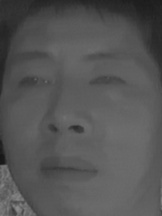eye: (14, 71, 54, 93), (88, 69, 125, 91)
mouth: (39, 151, 95, 188)
